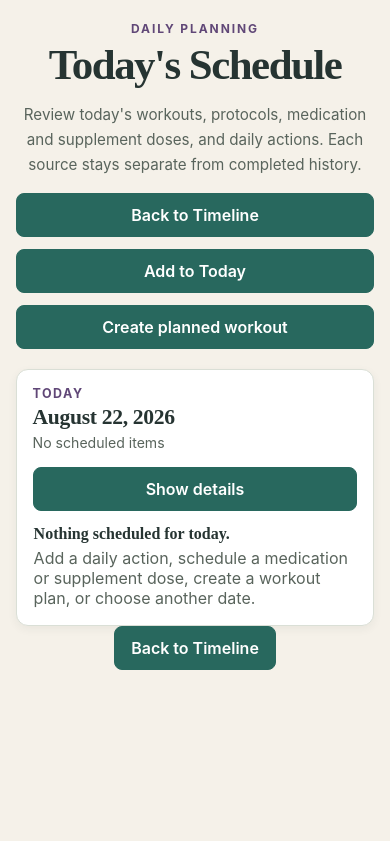
Test: does not offer a second create action while an editor is open
Click the button "Show details" at (195, 489), box [33, 467, 357, 511]
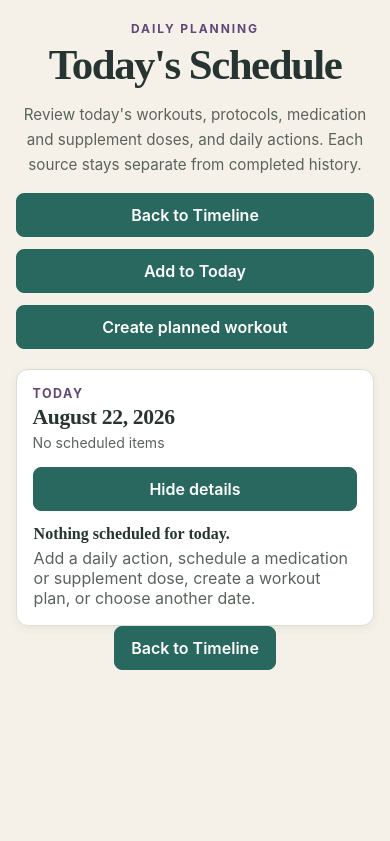
Click the button "Create planned workout" at (195, 327), box [16, 305, 374, 349]
(page scrolled)
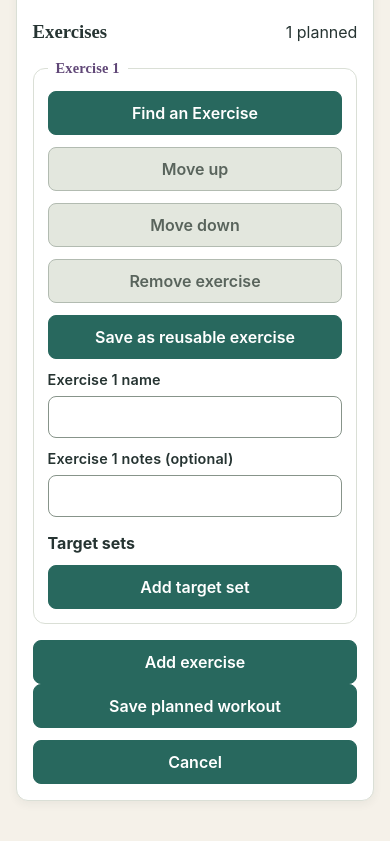
Check: the button "Create planned workout" is not shown
Check: the button "Save planned workout" is shown, box [33, 684, 357, 728]
Check: the button "Cancel" is shown, box [33, 740, 357, 784]
